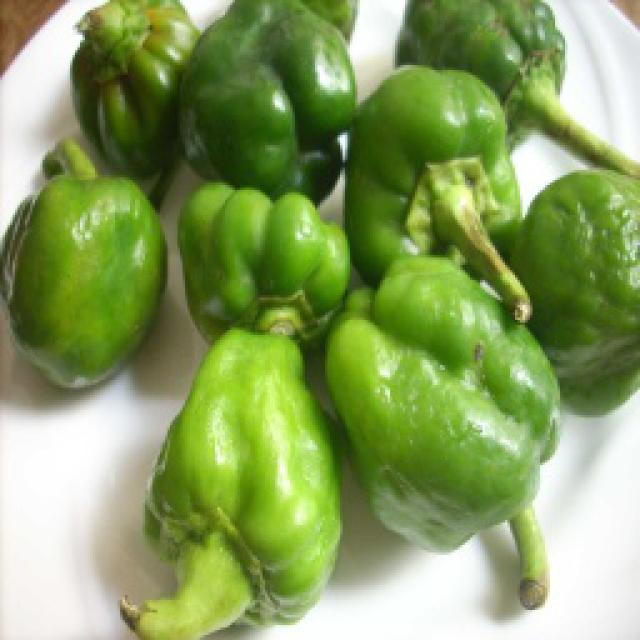Capsicum: (327, 254, 559, 610), (118, 333, 339, 640), (346, 64, 536, 320), (174, 0, 356, 194), (8, 171, 171, 383), (178, 182, 357, 344), (595, 164, 638, 164)
